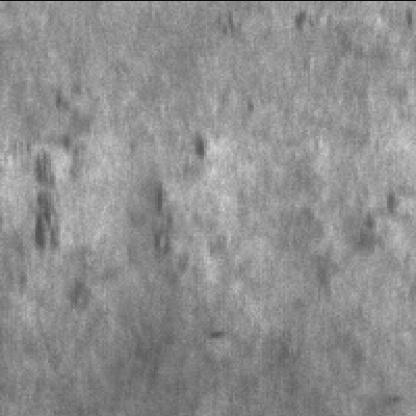rolled-in_scale: (23, 135, 218, 277), (31, 93, 110, 322), (310, 190, 404, 300)
